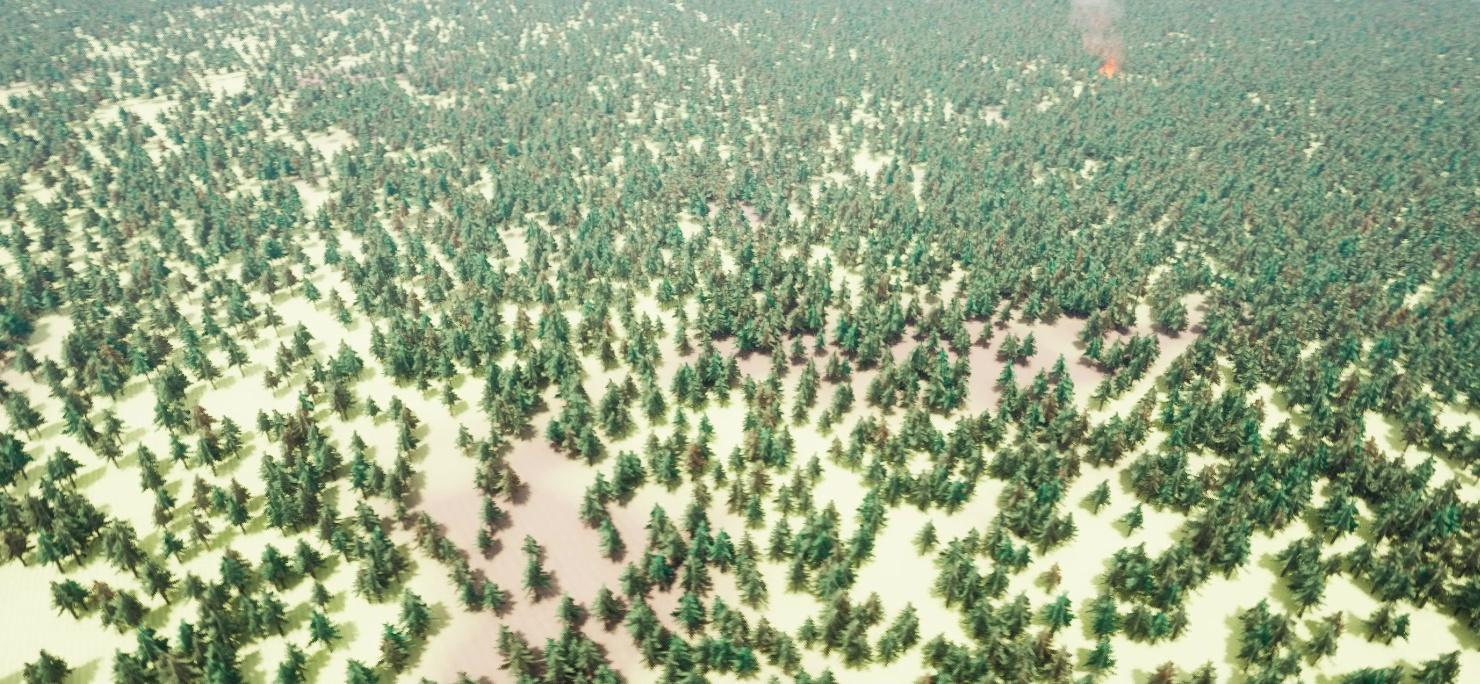fire: (1097, 54, 1125, 75)
smoke: (1069, 0, 1138, 56)
